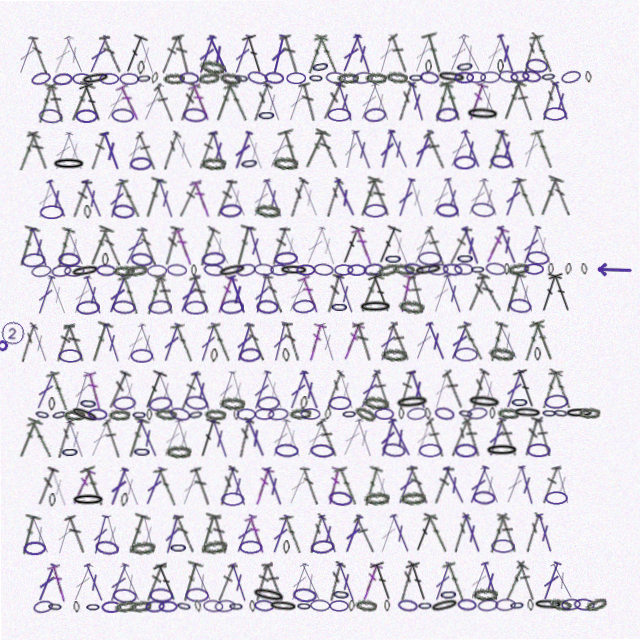chain: (249, 585, 286, 605), (68, 403, 100, 425), (394, 394, 430, 411), (466, 394, 502, 411), (217, 261, 248, 279), (428, 597, 459, 615), (81, 69, 112, 86), (466, 107, 501, 122), (70, 262, 101, 278), (413, 262, 444, 278), (52, 156, 87, 170), (358, 300, 393, 314), (484, 444, 519, 458), (70, 492, 105, 506), (353, 404, 377, 424), (147, 394, 173, 412), (93, 538, 119, 556), (437, 70, 468, 85), (200, 58, 227, 75), (488, 346, 515, 363), (200, 538, 227, 555), (583, 596, 607, 615), (376, 261, 400, 279), (398, 299, 425, 315), (362, 395, 389, 411), (128, 539, 155, 555), (471, 202, 496, 219), (381, 442, 406, 459), (327, 490, 352, 507), (267, 599, 297, 613), (526, 58, 550, 75), (490, 154, 514, 171), (508, 298, 532, 315), (184, 394, 208, 411), (39, 107, 64, 123), (21, 251, 46, 267), (309, 443, 334, 459), (309, 539, 334, 555), (111, 587, 136, 603), (291, 587, 316, 603), (247, 69, 270, 86), (168, 405, 191, 422), (255, 203, 281, 218), (512, 407, 542, 420), (363, 491, 389, 506), (399, 491, 425, 506), (532, 599, 562, 612), (364, 107, 388, 123), (436, 107, 460, 123), (130, 251, 154, 267), (526, 251, 550, 267), (256, 395, 280, 411), (183, 107, 208, 122), (201, 251, 226, 266), (31, 69, 53, 86), (201, 156, 227, 170), (273, 156, 299, 170), (381, 348, 407, 362), (219, 396, 245, 410), (165, 444, 191, 458), (471, 588, 497, 602), (112, 203, 136, 218), (274, 251, 298, 266), (279, 264, 309, 276), (76, 299, 100, 314), (112, 299, 136, 314), (148, 299, 172, 314), (220, 299, 244, 314), (292, 299, 316, 314), (238, 347, 262, 362), (112, 395, 136, 410), (544, 395, 568, 410), (564, 408, 594, 420), (274, 443, 298, 458), (148, 587, 172, 602), (184, 587, 208, 602), (311, 58, 332, 75), (561, 70, 583, 86), (433, 406, 455, 422), (198, 70, 221, 85), (112, 107, 135, 122), (220, 203, 243, 218), (436, 203, 459, 218), (58, 251, 81, 266), (125, 262, 148, 277), (507, 262, 530, 277), (256, 299, 279, 314), (472, 491, 495, 506), (113, 598, 136, 613), (128, 598, 151, 613), (548, 598, 571, 613), (328, 108, 352, 122), (544, 108, 568, 122), (40, 204, 64, 218), (364, 204, 388, 218), (418, 252, 442, 266), (184, 300, 208, 314), (58, 348, 82, 362), (454, 348, 478, 362), (418, 444, 442, 458), (526, 444, 550, 458), (220, 492, 244, 506), (238, 540, 262, 554), (490, 540, 514, 554), (203, 262, 225, 277), (235, 262, 257, 277), (403, 262, 425, 277), (485, 262, 507, 277), (31, 598, 53, 613), (220, 71, 243, 85), (76, 108, 99, 122), (130, 156, 153, 170), (454, 156, 477, 170), (130, 348, 153, 362), (328, 396, 351, 410), (454, 444, 477, 458), (544, 492, 567, 506), (22, 540, 45, 554), (456, 59, 476, 75), (240, 155, 260, 171), (499, 70, 520, 85), (522, 70, 543, 85), (363, 262, 384, 277), (353, 71, 375, 85), (267, 407, 289, 421), (466, 407, 488, 421), (476, 599, 498, 613), (78, 395, 98, 410), (330, 587, 350, 602), (154, 407, 177, 420), (53, 71, 74, 85), (326, 71, 347, 85), (420, 71, 441, 85), (31, 263, 52, 277), (51, 263, 72, 277), (442, 263, 463, 277), (406, 407, 427, 421), (396, 599, 417, 613), (387, 71, 409, 84), (393, 263, 415, 276), (289, 407, 311, 420), (213, 599, 235, 612), (354, 599, 376, 612), (572, 599, 594, 612), (313, 263, 334, 276), (494, 599, 515, 612), (33, 406, 51, 421), (50, 406, 68, 421), (174, 598, 192, 613), (258, 108, 277, 122), (384, 252, 403, 266), (456, 252, 475, 266), (330, 300, 349, 314), (510, 396, 529, 410), (60, 444, 79, 458), (132, 444, 151, 458), (168, 540, 187, 554), (438, 588, 457, 602), (164, 72, 186, 84), (338, 72, 360, 84), (366, 72, 388, 84), (113, 264, 135, 276), (63, 408, 85, 420), (108, 408, 130, 420), (204, 408, 226, 420), (497, 408, 519, 420), (578, 408, 600, 420), (180, 71, 200, 84), (265, 71, 285, 84), (511, 71, 531, 84), (96, 263, 116, 276), (167, 263, 187, 276), (254, 263, 274, 276), (454, 263, 474, 276), (87, 407, 107, 420), (144, 599, 164, 612), (202, 599, 222, 612), (253, 599, 273, 612), (309, 599, 329, 612), (456, 599, 476, 612), (560, 599, 580, 612), (64, 264, 85, 276), (428, 264, 449, 276), (73, 72, 93, 84), (100, 72, 120, 84), (120, 72, 140, 84), (287, 72, 307, 84), (455, 72, 475, 84), (467, 72, 487, 84), (481, 72, 501, 84), (147, 264, 167, 276), (270, 264, 290, 276), (296, 264, 316, 276), (334, 264, 354, 276), (347, 264, 367, 276), (524, 264, 544, 276), (236, 408, 256, 420), (254, 408, 274, 420), (300, 408, 320, 420), (374, 408, 394, 420), (100, 600, 120, 612), (157, 600, 177, 612), (328, 600, 348, 612), (234, 71, 251, 85), (187, 407, 204, 421), (457, 407, 474, 421), (552, 407, 569, 421), (541, 71, 558, 84), (137, 71, 153, 84), (46, 599, 62, 612), (309, 72, 325, 84), (409, 72, 425, 84), (470, 264, 486, 276), (131, 408, 147, 420), (341, 408, 357, 420), (541, 408, 557, 420), (84, 600, 100, 612), (227, 600, 243, 612), (295, 600, 311, 612), (416, 600, 432, 612), (508, 600, 524, 612), (299, 396, 308, 410), (119, 492, 128, 506), (151, 71, 160, 84), (138, 60, 146, 74), (84, 204, 92, 218), (210, 348, 218, 362), (282, 348, 290, 362), (193, 599, 201, 612), (426, 60, 433, 74), (498, 60, 505, 74), (102, 252, 109, 266), (534, 348, 541, 362), (48, 396, 55, 410), (48, 492, 55, 506), (282, 540, 289, 554), (586, 72, 593, 84), (565, 264, 572, 276), (581, 264, 588, 276), (324, 408, 331, 420), (424, 408, 431, 420), (72, 600, 79, 612), (248, 600, 255, 612), (347, 600, 354, 612), (526, 600, 533, 612), (191, 264, 197, 276), (504, 264, 510, 276), (548, 264, 554, 276), (146, 408, 152, 420), (233, 408, 239, 420), (398, 408, 404, 420), (489, 408, 495, 420), (383, 600, 389, 612)
double: (300, 128, 332, 171), (66, 80, 97, 123), (535, 176, 565, 219), (85, 224, 115, 267), (373, 224, 403, 267), (355, 272, 385, 315), (529, 320, 559, 363), (13, 416, 43, 459), (79, 464, 109, 507), (151, 560, 181, 603), (457, 321, 487, 363), (25, 417, 55, 459), (385, 417, 415, 459), (499, 561, 529, 603), (121, 32, 150, 75), (79, 80, 108, 123), (211, 80, 240, 123), (499, 80, 528, 123), (355, 176, 384, 219), (337, 224, 366, 267), (367, 272, 396, 315), (139, 368, 168, 411), (409, 512, 438, 555), (205, 33, 234, 75), (223, 81, 252, 123), (13, 129, 42, 171), (115, 177, 144, 219), (421, 513, 450, 555), (440, 80, 468, 123), (278, 128, 306, 171), (140, 176, 168, 219), (548, 272, 576, 315), (86, 320, 114, 363), (512, 368, 540, 411), (122, 416, 150, 459), (122, 512, 150, 555), (368, 560, 396, 603), (457, 33, 486, 74), (103, 81, 132, 122), (121, 225, 150, 266), (67, 465, 96, 506), (547, 561, 576, 602), (50, 33, 78, 75), (302, 33, 330, 75), (314, 33, 342, 75), (530, 33, 558, 75), (482, 129, 510, 171), (512, 177, 540, 219), (194, 225, 222, 267), (206, 321, 234, 363), (152, 465, 180, 507), (332, 465, 360, 507), (482, 513, 510, 555), (422, 32, 449, 75), (14, 224, 41, 267), (500, 272, 527, 315), (194, 512, 221, 555), (176, 560, 203, 603), (116, 81, 144, 122), (140, 81, 168, 122), (170, 129, 198, 170), (266, 129, 294, 170), (446, 129, 474, 170), (332, 177, 360, 218), (464, 177, 492, 218), (206, 225, 234, 266), (482, 225, 510, 266), (284, 273, 312, 314), (494, 321, 522, 362), (104, 369, 132, 410), (338, 417, 366, 458), (440, 465, 468, 506), (116, 561, 144, 602), (296, 561, 324, 602), (242, 33, 269, 75), (32, 81, 59, 123), (50, 129, 77, 171), (350, 129, 377, 171), (530, 129, 557, 171), (140, 273, 167, 315), (536, 273, 563, 315), (170, 321, 197, 363), (518, 321, 545, 363), (536, 369, 563, 411), (548, 369, 575, 411), (194, 417, 221, 459), (116, 465, 143, 507), (278, 513, 305, 555), (104, 561, 131, 603), (404, 561, 431, 603), (440, 561, 467, 603), (231, 224, 257, 267), (62, 33, 89, 74), (86, 33, 113, 74), (446, 33, 473, 74), (188, 81, 215, 122), (320, 81, 347, 122), (476, 81, 503, 122), (386, 129, 413, 170), (44, 177, 71, 218), (80, 177, 107, 218), (224, 177, 251, 218), (368, 177, 395, 218), (428, 177, 455, 218), (62, 225, 89, 266), (278, 225, 305, 266), (302, 225, 329, 266), (410, 225, 437, 266), (104, 273, 131, 314), (176, 273, 203, 314), (464, 273, 491, 314), (122, 321, 149, 362), (446, 321, 473, 362), (32, 369, 59, 410), (260, 369, 287, 410), (356, 369, 383, 410), (86, 417, 113, 458), (134, 417, 161, 458), (242, 417, 269, 458), (302, 417, 329, 458), (140, 465, 167, 506), (284, 465, 311, 506), (464, 465, 491, 506), (26, 513, 53, 554), (386, 513, 413, 554), (32, 561, 59, 602), (68, 561, 95, 602), (80, 561, 107, 602), (188, 561, 215, 602), (15, 33, 41, 75), (411, 33, 437, 75), (483, 33, 509, 75), (369, 81, 395, 123), (429, 81, 455, 123), (99, 129, 125, 171), (189, 177, 215, 219), (261, 177, 287, 219), (477, 177, 503, 219), (171, 225, 197, 267), (351, 225, 377, 267), (45, 273, 71, 315), (69, 273, 95, 315), (225, 273, 251, 315), (297, 273, 323, 315), (63, 321, 89, 363), (375, 321, 401, 363), (483, 321, 509, 363), (45, 369, 71, 411), (153, 369, 179, 411), (285, 369, 311, 411), (297, 369, 323, 411), (501, 369, 527, 411), (267, 417, 293, 459), (279, 417, 305, 459), (45, 465, 71, 507), (105, 465, 131, 507), (177, 465, 203, 507), (357, 465, 383, 507), (15, 513, 41, 555), (339, 513, 365, 555), (285, 561, 311, 603), (537, 561, 563, 603), (339, 33, 365, 74), (357, 81, 383, 122), (27, 129, 53, 170), (411, 129, 437, 170), (459, 129, 485, 170), (297, 177, 323, 218), (387, 225, 413, 266), (495, 225, 521, 266), (339, 321, 365, 362), (387, 321, 413, 362), (411, 321, 437, 362), (423, 321, 449, 362), (159, 417, 185, 458), (33, 465, 59, 506), (393, 465, 419, 506), (477, 465, 503, 506), (501, 465, 527, 506), (63, 513, 89, 554), (231, 513, 257, 554), (465, 561, 491, 602), (135, 33, 160, 75), (195, 33, 220, 75), (231, 33, 256, 75), (495, 33, 520, 75), (177, 81, 202, 123), (261, 81, 286, 123), (285, 81, 310, 123), (465, 81, 490, 123), (63, 129, 88, 171), (231, 129, 256, 171), (243, 129, 268, 171), (249, 177, 274, 219), (501, 177, 526, 219), (27, 225, 52, 267), (51, 225, 76, 267), (459, 225, 484, 267), (519, 225, 544, 267), (531, 225, 556, 267), (33, 273, 58, 315), (81, 273, 106, 315), (117, 273, 142, 315), (189, 273, 214, 315), (213, 273, 238, 315), (333, 273, 358, 315), (429, 273, 454, 315), (441, 273, 466, 315), (27, 321, 52, 363), (135, 321, 160, 363), (159, 321, 184, 363), (189, 369, 214, 411), (249, 369, 274, 411), (477, 369, 502, 411), (63, 417, 88, 459), (207, 417, 232, 459), (411, 417, 436, 459), (189, 465, 214, 507), (225, 465, 250, 507), (261, 465, 286, 507), (369, 465, 394, 507), (243, 513, 268, 555), (267, 513, 292, 555), (315, 513, 340, 555), (375, 513, 400, 555), (459, 513, 484, 555), (333, 561, 358, 603), (357, 561, 382, 603), (429, 561, 454, 603), (477, 561, 502, 603), (423, 130, 449, 170), (447, 226, 473, 266), (477, 274, 503, 314), (351, 514, 377, 554), (249, 81, 274, 122), (285, 177, 310, 218), (441, 369, 466, 410), (315, 417, 340, 458), (495, 417, 520, 458), (261, 561, 286, 602), (280, 33, 304, 75), (352, 33, 376, 75), (334, 81, 358, 123), (550, 81, 574, 123), (496, 129, 520, 171), (520, 129, 544, 171), (34, 177, 58, 219), (154, 177, 178, 219), (394, 177, 418, 219), (316, 225, 340, 267), (514, 273, 538, 315), (100, 321, 124, 363), (196, 321, 220, 363), (232, 321, 256, 363), (352, 321, 376, 363), (214, 369, 238, 411), (334, 369, 358, 411), (406, 369, 430, 411), (352, 417, 376, 459), (484, 417, 508, 459), (250, 465, 274, 507), (52, 513, 76, 555), (532, 513, 556, 555), (226, 561, 250, 603), (153, 82, 178, 122), (135, 130, 160, 170), (177, 178, 202, 218), (447, 418, 472, 458), (100, 33, 124, 74), (388, 33, 412, 74), (394, 81, 418, 122), (316, 129, 340, 170), (214, 177, 238, 218), (466, 369, 490, 410), (214, 465, 238, 506), (430, 465, 454, 506), (142, 561, 166, 602), (376, 33, 399, 75), (124, 129, 147, 171), (208, 129, 231, 171), (106, 177, 129, 219), (406, 177, 429, 219), (442, 177, 465, 219), (244, 225, 267, 267), (304, 321, 327, 363), (316, 321, 339, 363), (70, 369, 93, 411), (118, 369, 141, 411), (430, 369, 453, 411), (172, 417, 195, 459), (376, 417, 399, 459), (520, 417, 543, 459), (88, 513, 111, 555), (160, 513, 183, 555), (208, 513, 231, 555), (46, 561, 69, 603), (424, 226, 448, 266), (322, 370, 346, 410), (70, 177, 93, 218), (244, 321, 267, 362), (406, 465, 429, 506), (172, 513, 195, 554), (496, 513, 519, 554), (394, 561, 417, 602), (514, 561, 537, 602), (269, 33, 291, 75), (299, 81, 321, 123), (407, 81, 429, 123), (323, 273, 345, 315), (227, 369, 249, 411), (515, 465, 537, 507), (160, 34, 183, 74), (514, 82, 537, 122), (160, 130, 183, 170), (100, 226, 123, 266), (178, 370, 201, 410), (424, 418, 447, 458), (214, 562, 237, 602), (29, 33, 51, 74), (173, 33, 195, 74), (539, 81, 561, 122), (197, 129, 219, 170), (377, 129, 399, 170), (323, 177, 345, 218), (551, 177, 573, 218), (137, 225, 159, 266), (161, 225, 183, 266), (269, 225, 291, 266), (155, 273, 177, 314), (263, 273, 285, 314), (17, 321, 39, 362), (53, 321, 75, 362), (269, 321, 291, 362), (83, 369, 105, 410), (371, 369, 393, 410), (53, 417, 75, 458), (101, 417, 123, 458), (461, 417, 483, 458), (539, 465, 561, 506), (551, 465, 573, 506), (101, 513, 123, 554), (137, 513, 159, 554), (449, 513, 471, 554), (521, 513, 543, 554), (323, 561, 345, 602), (521, 33, 542, 74), (47, 81, 68, 122), (89, 129, 110, 170), (341, 129, 362, 170), (251, 273, 272, 314), (233, 417, 254, 458), (533, 417, 554, 458), (299, 465, 320, 506), (323, 465, 344, 506), (305, 513, 326, 554), (251, 561, 272, 602), (396, 273, 416, 314), (396, 369, 416, 410), (408, 273, 427, 314), (282, 321, 301, 362)
noise: (0, 318, 26, 345), (595, 263, 632, 278), (0, 338, 8, 350)
